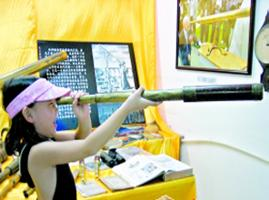person: (4, 76, 162, 200)
